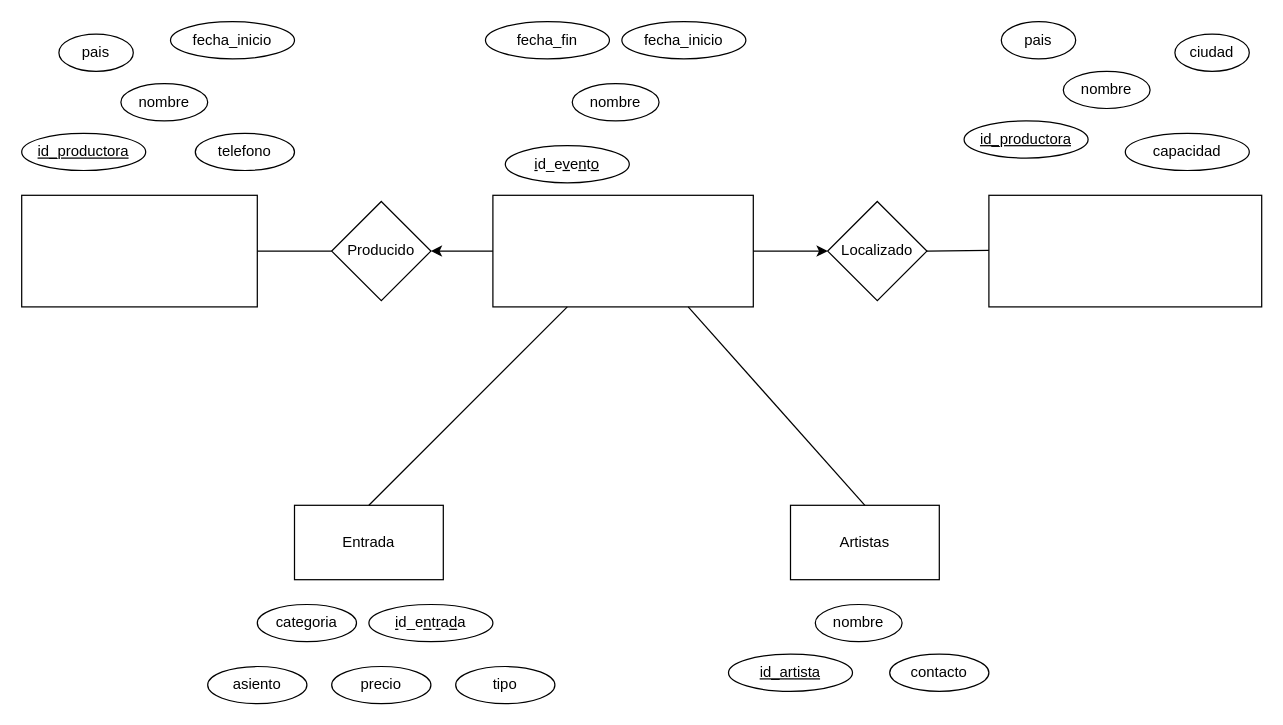
Some shapes in this 1283 by 725 pixel diagram are drawn without their labels. Each missing label, with the centre of its shape:
"Evento" belongs at (622,250).
"Productora" belongs at (138,250).
"Recinto" belongs at (1125,250).
